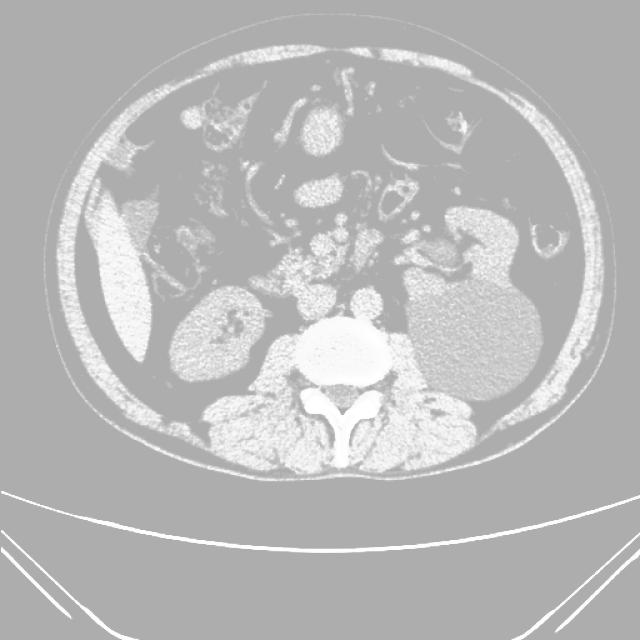cysts: (51, 41, 605, 479)
